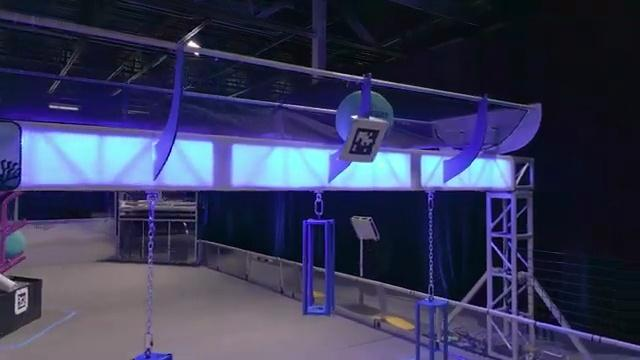ALGAE: (336, 89, 394, 146), (3, 229, 25, 258)
